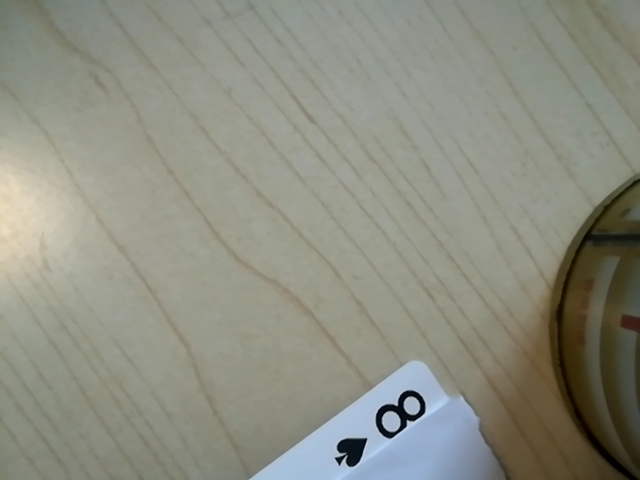ht 8: (317, 380, 445, 467)
